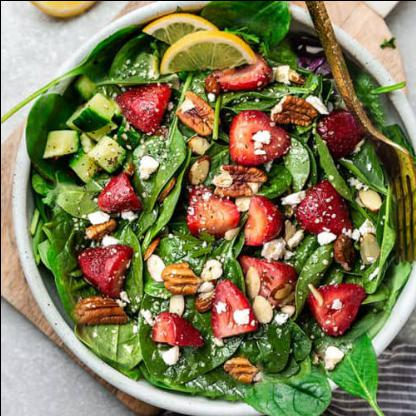salad: (24, 1, 415, 416)
